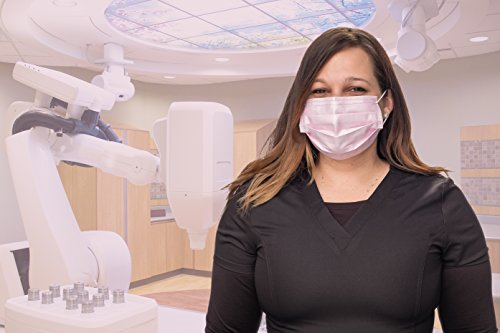mask: (296, 103, 392, 163)
